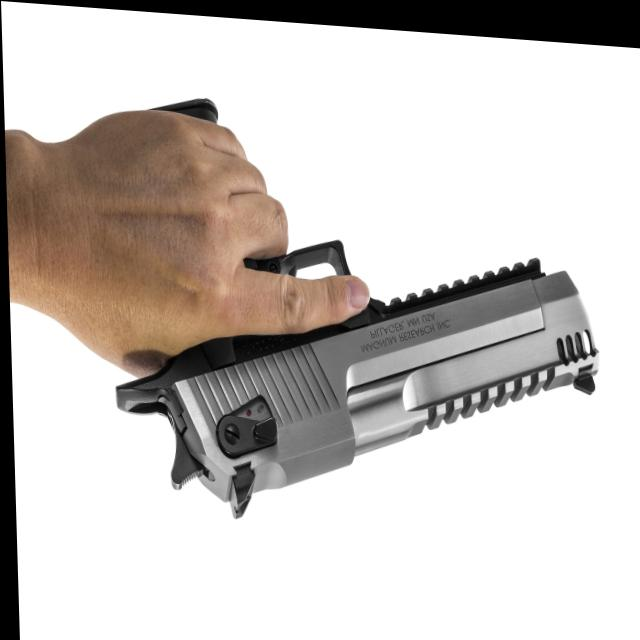handgun: (103, 217, 610, 540)
